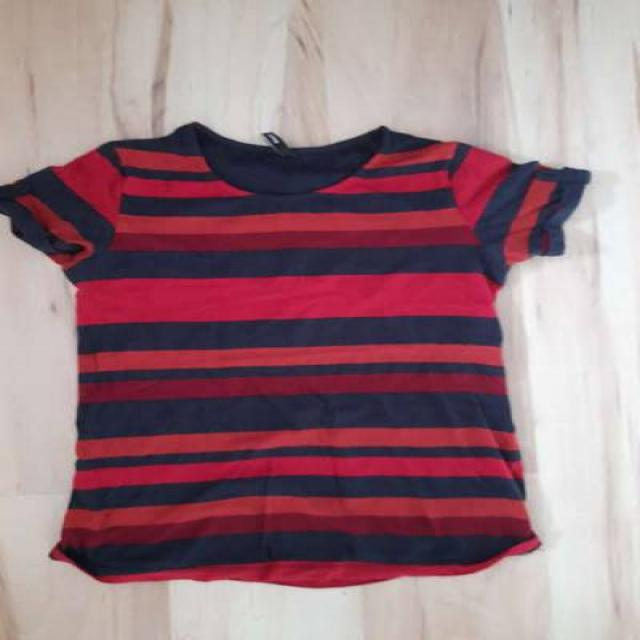Clothes -Biodegradable-: (0, 122, 606, 592)
